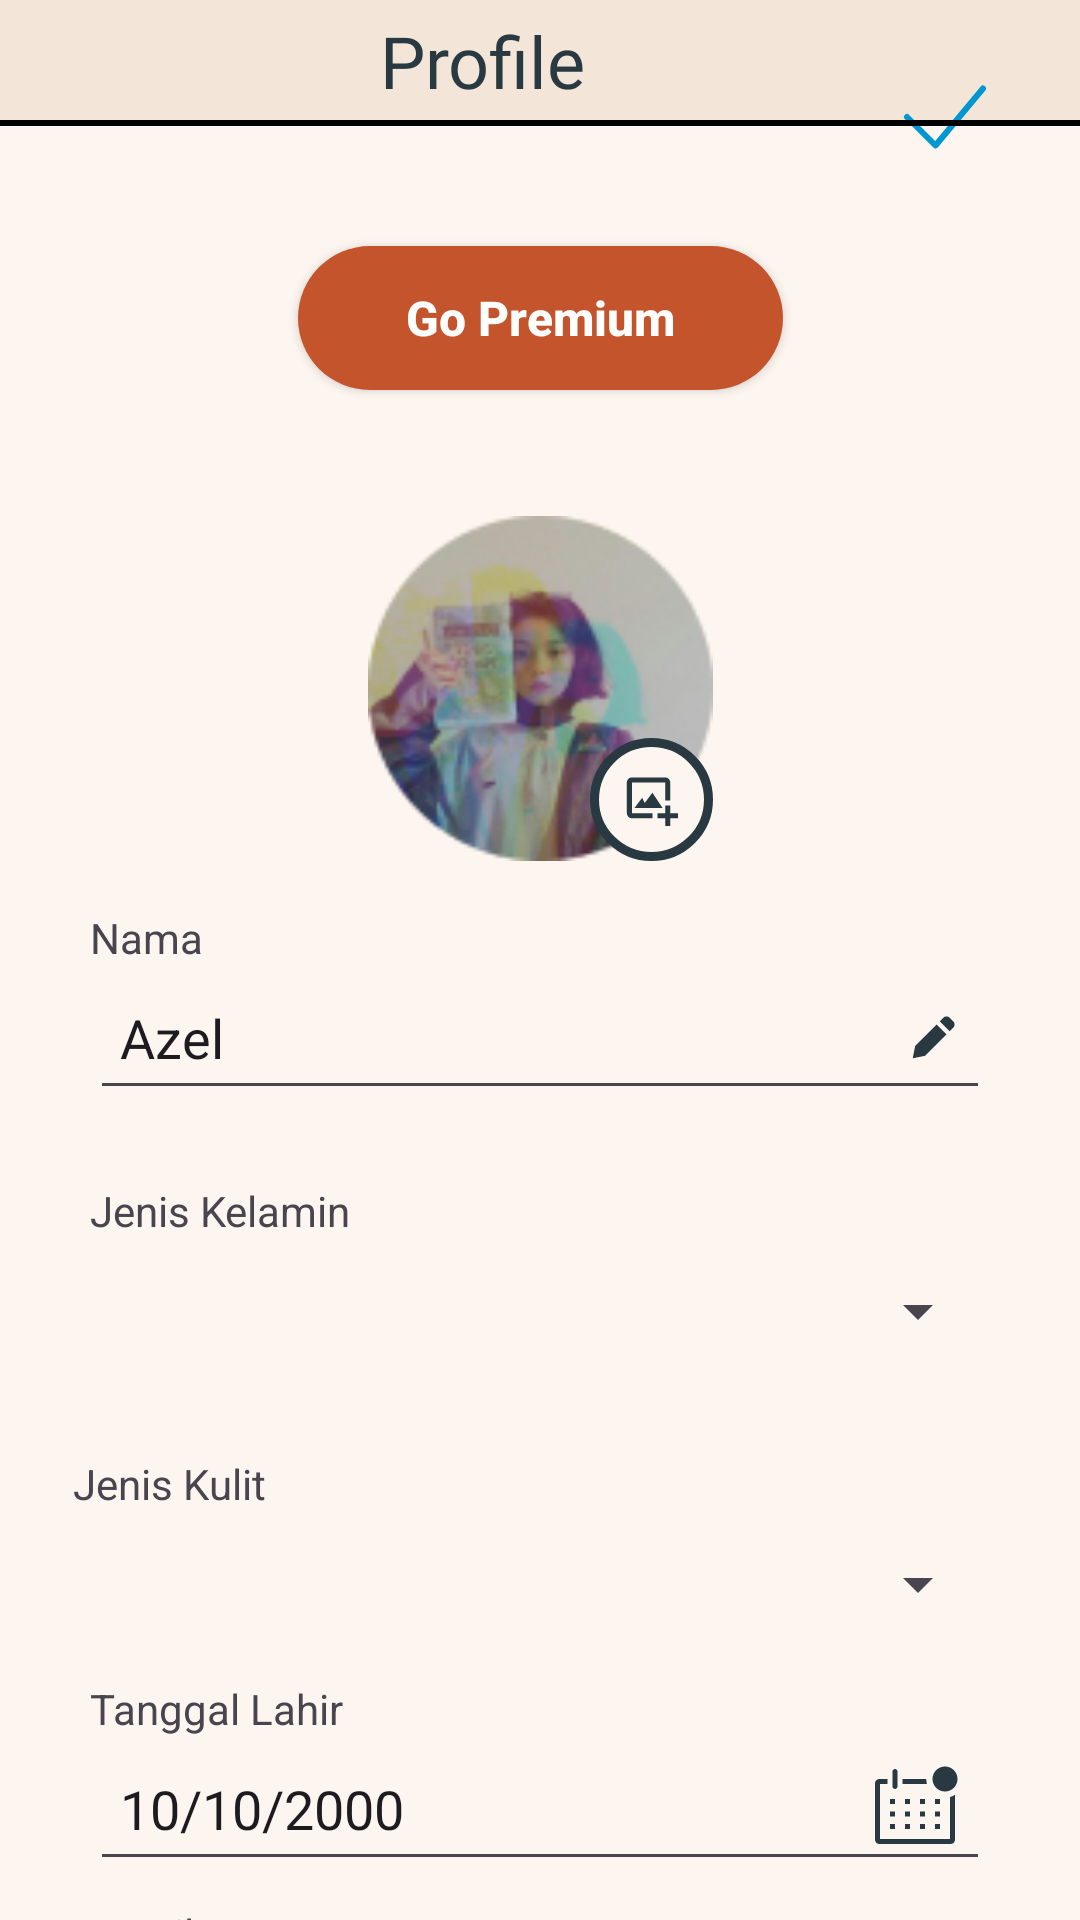

Named icons in this screenshot (1080 × 1920) and their centers, point (x, y):
check: point (945, 117)
